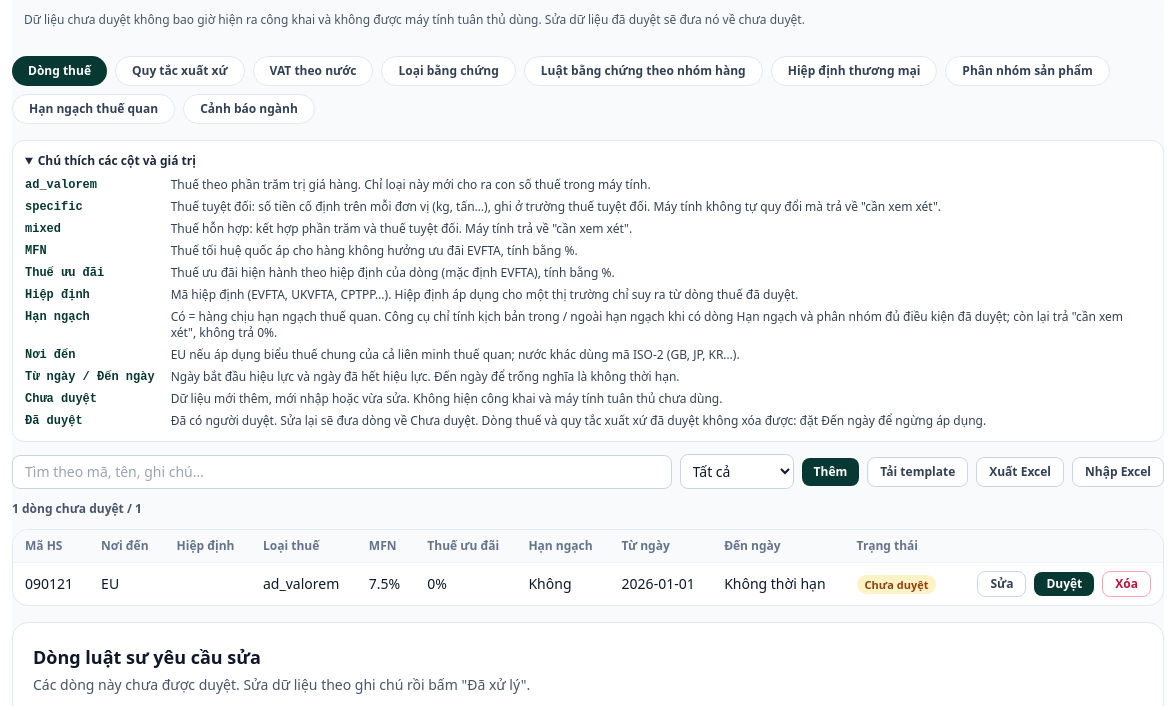
Test: Dữ liệu tuân thủ (admin) › thao tác lỗi: hiện thông báo và tải lại danh sách
This screenshot has width=1176, height=706.
Click the button "Xóa" at (1127,584), box [1102, 571, 1151, 597]
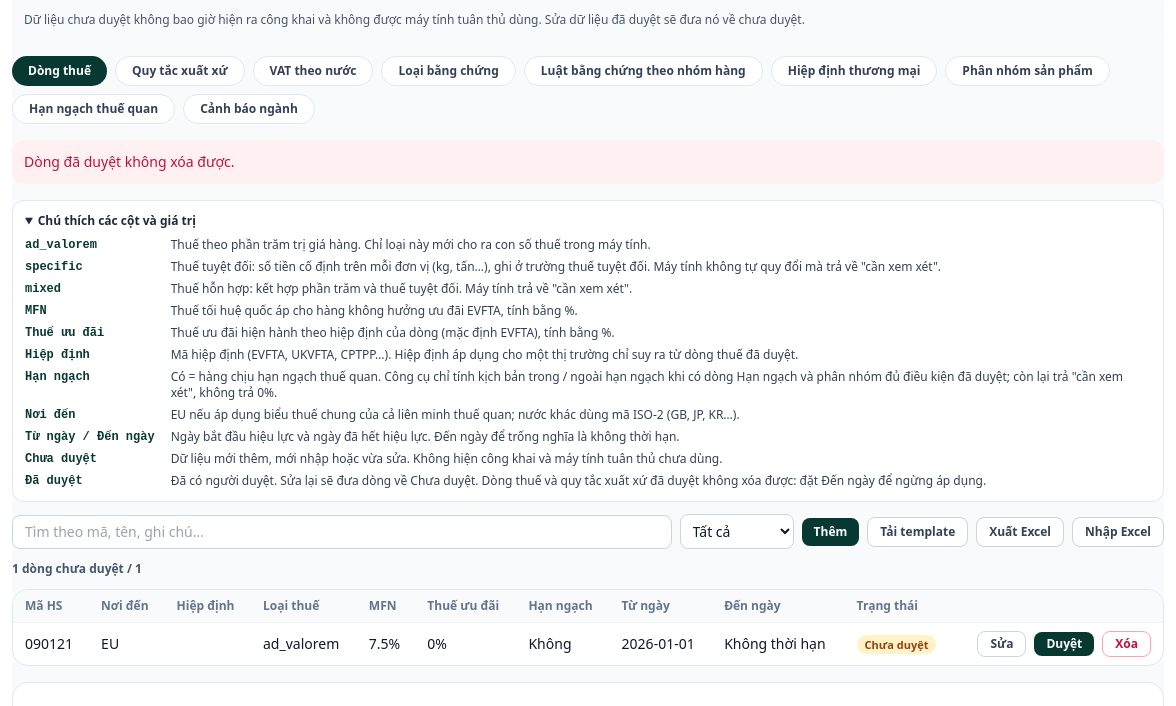
Check: the message shows "Dòng đã duyệt không xóa được", box [24, 152, 234, 171]
